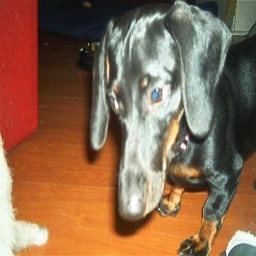dog: (88, 3, 256, 252)
